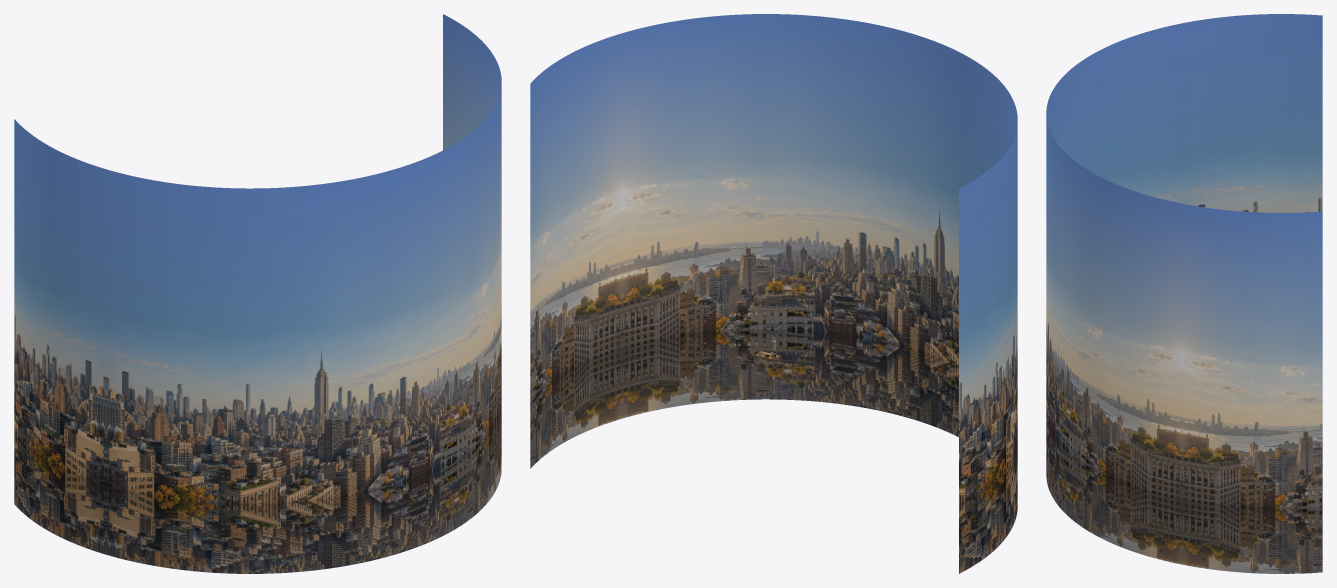
File: studio-baked.glb
3 renders of one model, left to right at view 1: azimuth 30°, elevation 25°; view 2: azimuth 150°, elevation 25°; view 3: azimuth 270°, elevation 25°, orthographic. The views are drawn at different scales.
Visible parts, largest first — view 1: studio-window-view; view 2: studio-window-view; view 3: studio-window-view.
Part boxes in pixels (x1,y1,x2,y2): studio-window-view: [14, 14, 501, 573]; studio-window-view: [530, 14, 1017, 573]; studio-window-view: [1046, 14, 1322, 573].
Size of the model in its own units: 68 by 57.53 by 39.9.
3 materials, 3 textured.
